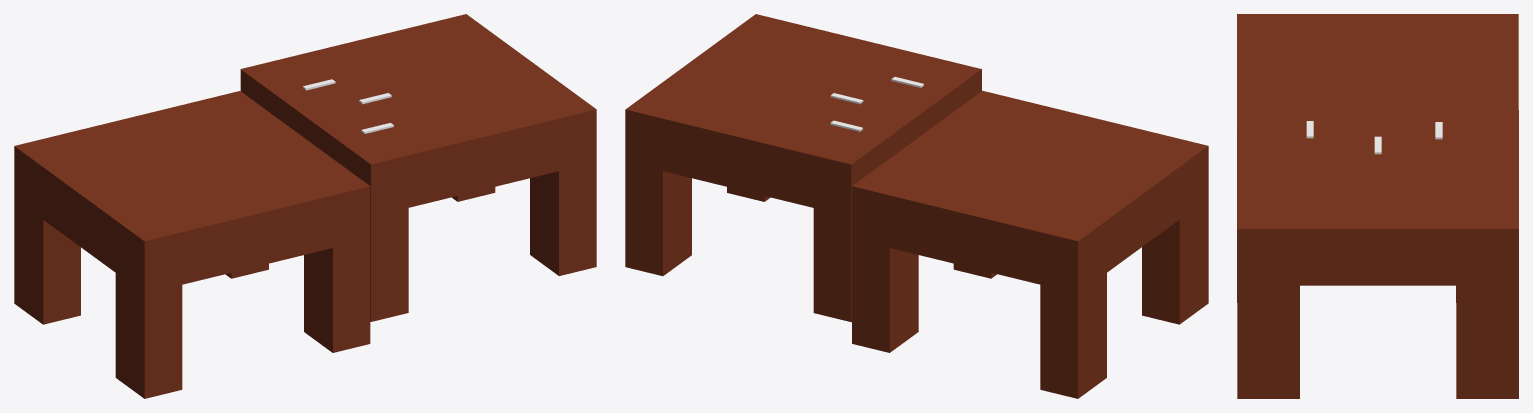
The model's file is keva_yumi.dae.
3 views of the same model, side by side, from view 1: azimuth 30°, elevation 25°; view 2: azimuth 150°, elevation 25°; view 3: azimuth 270°, elevation 25° (orthographic). The views are drawn at different scales.
Visible parts, largest first — view 1: base (×7); view 2: base (×7); view 3: base (×4).
Boxes of the visible parts, left/top/right/bottom form: base (×7): left=14, top=14, right=596, bottom=398; base (×7): left=625, top=14, right=1208, bottom=398; base (×4): left=1237, top=14, right=1518, bottom=398.
Bounding box in the file's own units: 1.8 × 0.9009 × 0.6914.
